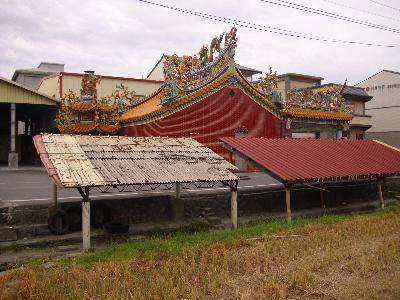tire: (87, 201, 112, 229), (46, 210, 71, 234), (65, 206, 87, 230), (106, 223, 130, 234)
